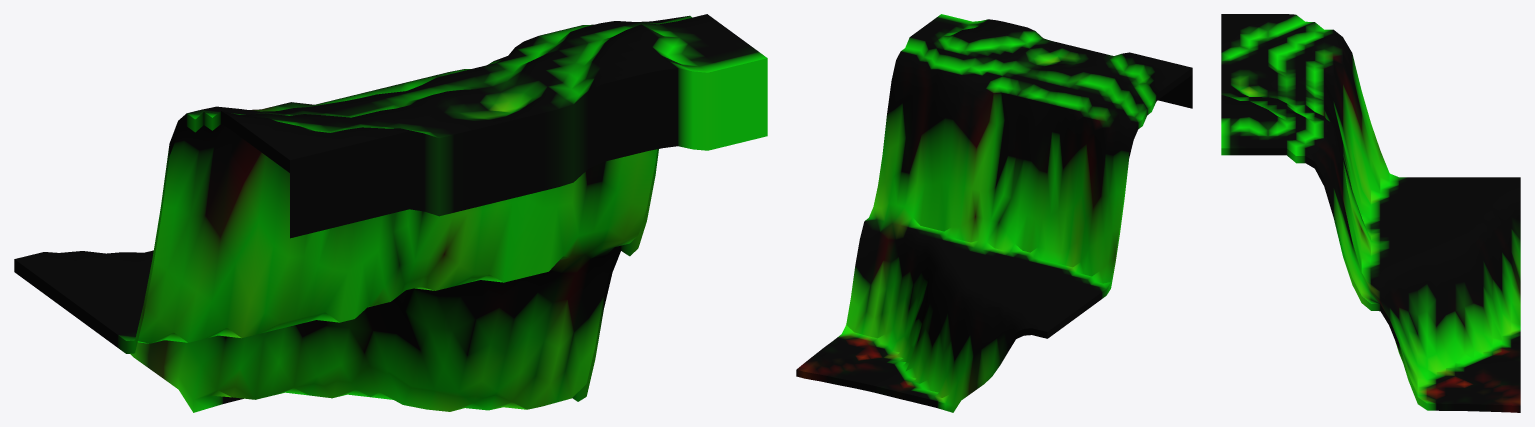
File: Terrain_07_04.fbx
3 views of the same model, side by side, from view 1: azimuth 30°, elevation 25°; view 2: azimuth 150°, elevation 25°; view 3: azimuth 270°, elevation 25° (orthographic). The views are drawn at different scales.
Visible parts, largest first — view 1: Terrain_07_04_LOD0; view 2: Terrain_07_04_LOD0; view 3: Terrain_07_04_LOD0.
Boxes of the visible parts, bbox=[...] form: Terrain_07_04_LOD0: bbox=[14, 14, 767, 412]; Terrain_07_04_LOD0: bbox=[796, 14, 1192, 412]; Terrain_07_04_LOD0: bbox=[1221, 14, 1520, 412].
Size of what is drawn, in the model's own units: 384 by 386 by 384.
